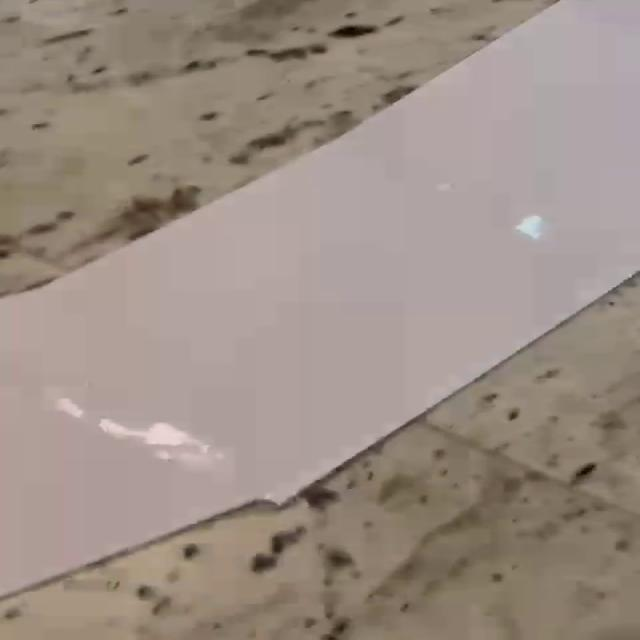road: (1, 1, 640, 592)
